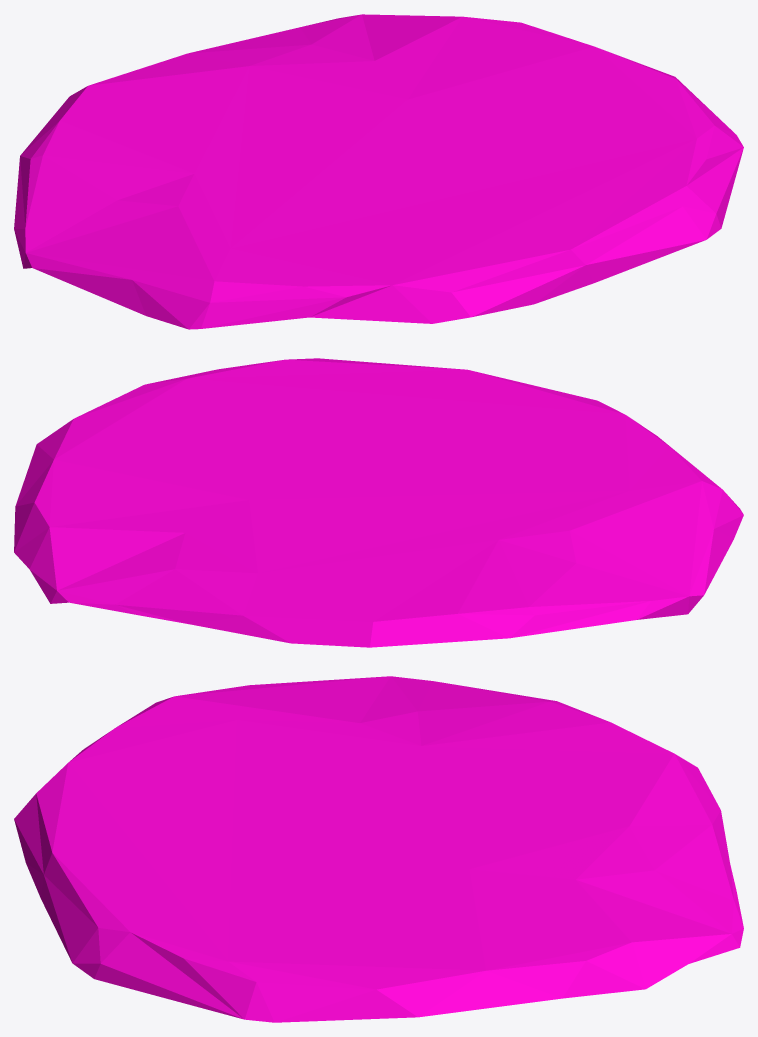
The model's file is 1mainIsland-upper.obj.
3 views of the same model, one above another, from view 1: azimuth 30°, elevation 25°; view 2: azimuth 150°, elevation 25°; view 3: azimuth 270°, elevation 25° (orthographic). The views are drawn at different scales.
Visible parts, largest first — view 1: Main_island.001; view 2: Main_island.001; view 3: Main_island.001.
Boxes of the visible parts, x1,y1,x2,y2 form: Main_island.001: (14, 14, 743, 329); Main_island.001: (14, 358, 743, 647); Main_island.001: (14, 676, 743, 1022).
Bounding box in the file's own units: 88.97 × 5.37 × 78.67.
